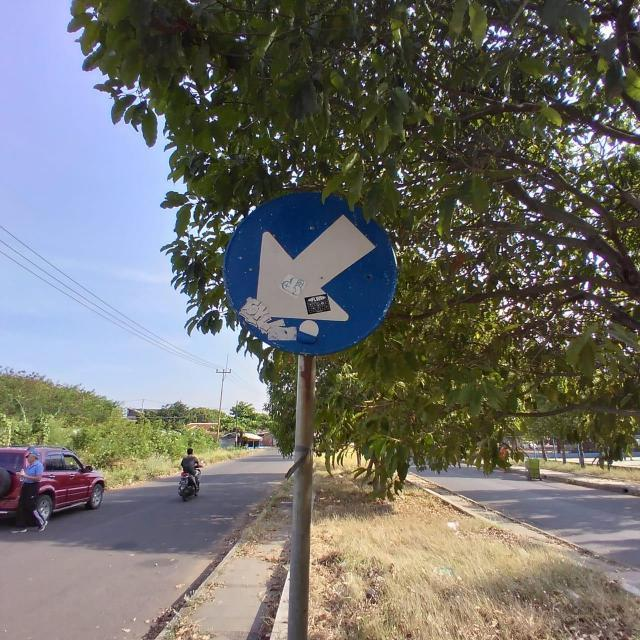traffic sign: (224, 190, 395, 354)
